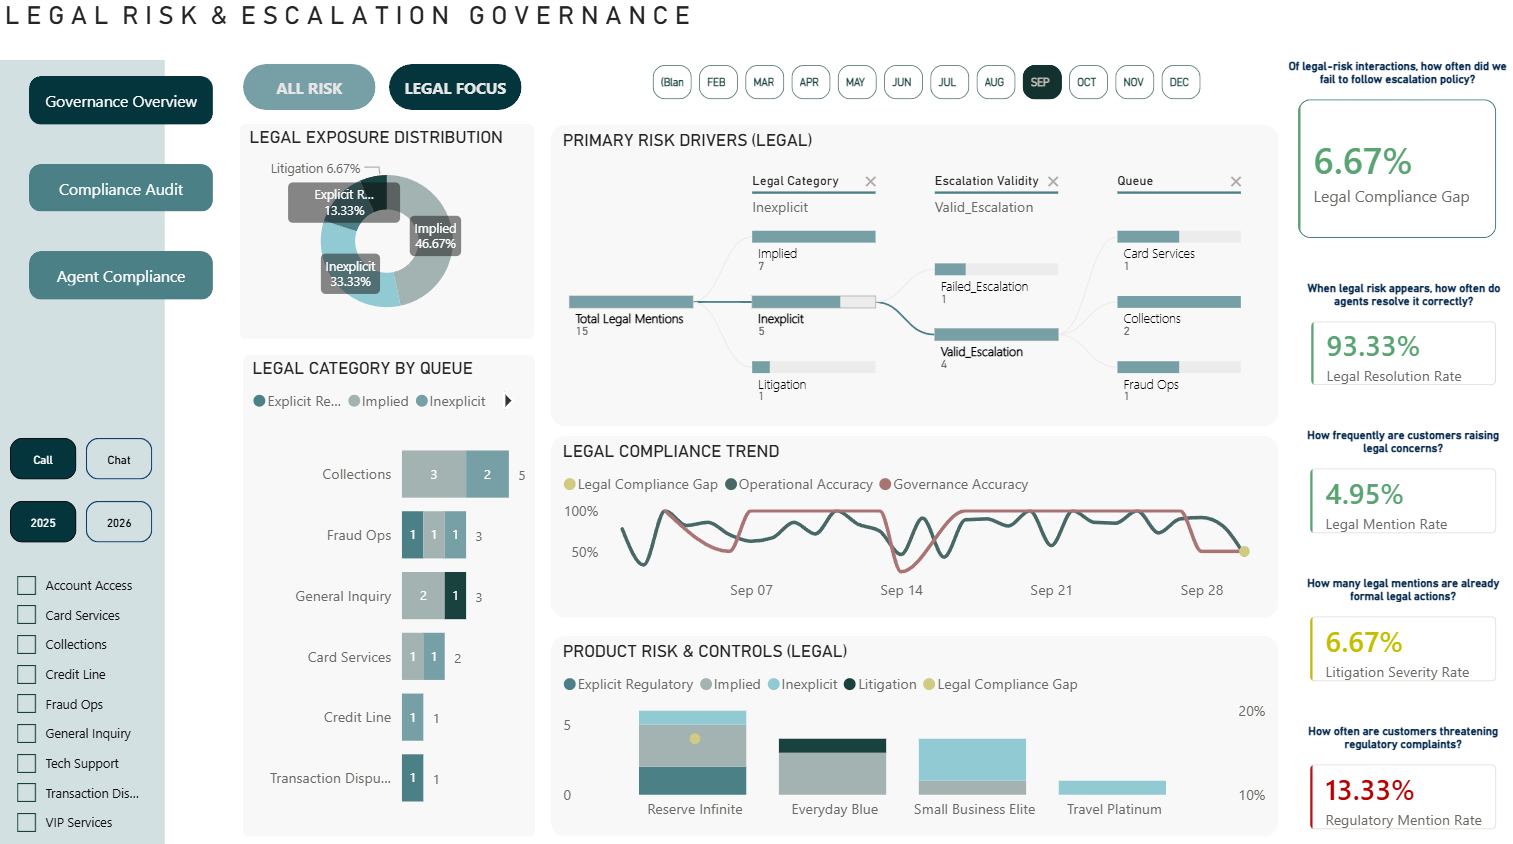

What the dashboard file says about the page in this screenshot:
{"tool":"powerbi","page":{"name":"GOVERNANCE OVERVIEW","canvas":[1280,720],"ordinal":0},"visuals":[{"type":"textbox","box":[0,0,605.4,38.1],"z":0},{"type":"actionButton","box":[25,68.9,155.2,41.1],"z":0,"group":"g1"},{"type":"donutChart","title":"LEGAL EXPOSURE DISTRIBUTION","fields":{"Category":["Interactions.Legal_Category"],"Y":["_Measures.Total Interactions"]},"box":[203.1,109.4,247.6,181.4],"z":0,"group":"g2"},{"type":"cardVisual","fields":{"Data":["_Measures.Legal Resolution Rate"]},"box":[1089.7,236.4,190.5,110.7],"z":0,"group":"g3"},{"type":"shape","box":[0,55.3,139.8,664.5],"z":1000},{"type":"actionButton","box":[25,143.2,155.2,40.2],"z":1000,"group":"g1"},{"type":"cardVisual","fields":{"Data":["_Measures.Legal Mention Rate"]},"box":[1088.6,360.6,191,111],"z":1000,"group":"g3"},{"type":"lineChart","title":"LEGAL COMPLIANCE TREND","fields":{"Category":["Interactions.date"],"Y":["_Measures.Legal Compliance Gap","_Measures.Escalation Accuracy","_Measures.Governance Accuracy"]},"box":[465.5,372.9,612.6,152.9],"z":1000,"group":"g2"},{"type":"cardVisual","fields":{"Data":["_Measures.Legal Compliance Gap"]},"box":[1078.5,49.4,201.9,173.4],"z":2000,"group":"g3"},{"type":"actionButton","box":[25,216.6,155.2,41.1],"z":2000,"group":"g1"},{"type":"barChart","title":"LEGAL CATEGORY BY QUEUE","fields":{"Category":["Interactions.queue"],"Series":["Interactions.Legal_Category"],"Y":["_Measures.Total Interactions"]},"box":[205.4,304.5,246.4,406.1],"z":2000,"group":"g2"},{"type":"cardVisual","fields":{"Data":["_Measures.Litigation Severity Rate"]},"box":[1088.6,485.1,191,111],"z":3000,"group":"g3"},{"type":"lineStackedColumnComboChart","title":"PRODUCT RISK & CONTROLS (LEGAL)","fields":{"Category":["Interactions.product_type"],"Y":["_Measures.Total Risk Interactions"],"Y2":["_Measures.Legal Compliance Gap"],"Series":["Interactions.Legal_Category"]},"box":[465.5,541.8,612.6,168.8],"z":3000,"group":"g2"},{"type":"actionButton","title":"CALL","box":[205.4,59.2,111.8,38.8],"z":4000,"group":"g2"},{"type":"listSlicer","fields":{"Values":["Interactions.queue"]},"box":[9.3,480.6,120.6,238.4],"z":4000},{"type":"cardVisual","fields":{"Data":["_Measures.Regulatory Mention Rate"]},"box":[1088.6,609.7,191,111],"z":4000,"group":"g3"},{"type":"actionButton","title":"CALL","box":[328.6,59.2,111.8,38.8],"z":5000,"group":"g2"},{"type":"group","id":"g1","title":"Group 1","box":[25,68.9,155.4,188.8],"z":5000},{"type":"advancedSlicerVisual","fields":{"Values":["Interactions.date.Variation.Date Hierarchy.Month"]},"box":[526.1,55.2,514,39.2],"z":6000},{"type":"decompositionTreeVisual","title":"PRIMARY RISK DRIVERS (LEGAL)","fields":{"ExplainBy":["Interactions.Legal_Category","Interactions.escalation_validity","Interactions.queue"],"Analyze":["_Measures.Total Legal Mentions"]},"box":[465.5,110.5,612.6,254.4],"z":6000,"group":"g2"},{"type":"advancedSlicerVisual","fields":{"Values":["Interactions.date.Variation.Date Hierarchy.Year"]},"box":[4.2,422.5,130.4,45],"z":7000},{"type":"advancedSlicerVisual","fields":{"Values":["Interactions.interaction_type"]},"box":[4.2,369.3,130.4,45],"z":8000},{"type":"group","id":"g2","title":"Group 3","box":[203.1,59.2,875.1,651.5],"z":10000},{"type":"group","id":"g3","title":"Group 5","box":[1078.5,49.4,201.9,671.3],"z":12000}]}

Visuals, with their boxes in screenshot pixels (x1, y1, x2, y2), scaled from the page's 1280x720 canvas onto the 1513x844 screenshot:
textbox: l=0, t=0, r=716, b=45
actionButton: l=30, t=81, r=213, b=129
"LEGAL EXPOSURE DISTRIBUTION" donutChart: l=240, t=128, r=533, b=341
cardVisual - _Measures.Legal Resolution Rate: l=1288, t=277, r=1512, b=407
shape: l=0, t=65, r=165, b=843
actionButton: l=30, t=168, r=213, b=215
cardVisual - _Measures.Legal Mention Rate: l=1287, t=423, r=1512, b=553
"LEGAL COMPLIANCE TREND" lineChart: l=550, t=437, r=1274, b=616
cardVisual - _Measures.Legal Compliance Gap: l=1275, t=58, r=1512, b=261
actionButton: l=30, t=254, r=213, b=302
"LEGAL CATEGORY BY QUEUE" barChart: l=243, t=357, r=534, b=833
cardVisual - _Measures.Litigation Severity Rate: l=1287, t=569, r=1512, b=699
"PRODUCT RISK & CONTROLS (LEGAL)" lineStackedColumnComboChart: l=550, t=635, r=1274, b=833
"CALL" actionButton: l=243, t=69, r=375, b=115
listSlicer - Interactions.queue: l=11, t=563, r=154, b=843
cardVisual - _Measures.Regulatory Mention Rate: l=1287, t=715, r=1512, b=843
"CALL" actionButton: l=388, t=69, r=521, b=115
"Group 1" group: l=30, t=81, r=213, b=302
advancedSlicerVisual - Interactions.date.Variation.Date Hierarchy.Month: l=622, t=65, r=1229, b=111
"PRIMARY RISK DRIVERS (LEGAL)" decompositionTreeVisual: l=550, t=130, r=1274, b=428
advancedSlicerVisual - Interactions.date.Variation.Date Hierarchy.Year: l=5, t=495, r=159, b=548
advancedSlicerVisual - Interactions.interaction_type: l=5, t=433, r=159, b=486
"Group 3" group: l=240, t=69, r=1274, b=833
"Group 5" group: l=1275, t=58, r=1512, b=843
